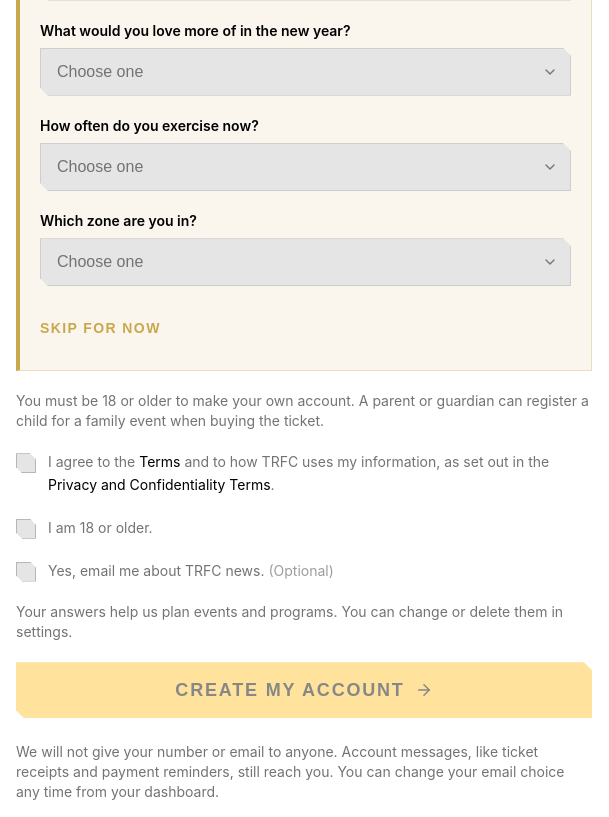
Test case: RegisterForm consent boxes › keeps the button off until Box 1 and the age box are ticked, with Box 2 unticked
(page scrolled)
Expected: the text "I am 18 or older." is shown, [48,517,153,540]
Expected: the checkbox with id "reg-marketing" is not checked, [16,562,334,582]
Step 1. Click the checkbox with id "reg-terms" → (94, 462), box [16,451,592,497]
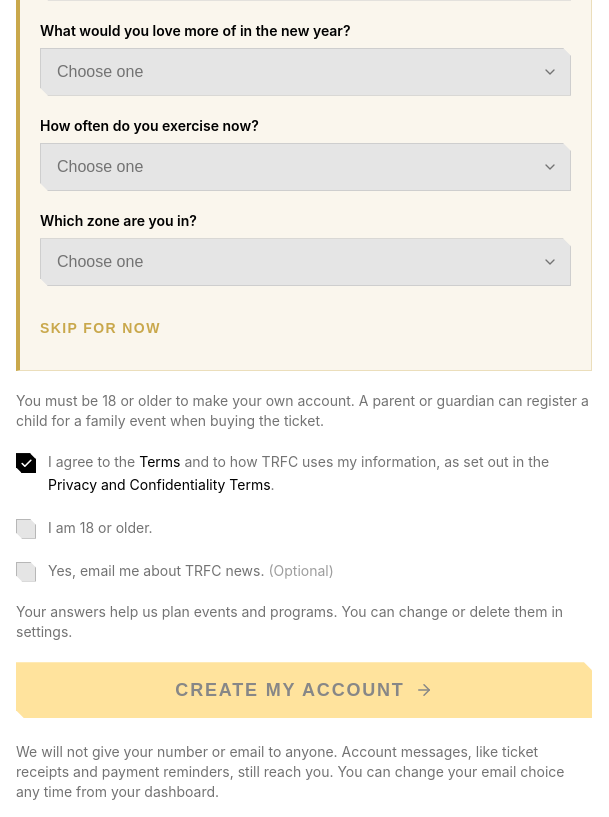
Expected: the button "Create my account" is disabled, [16,662,592,718]
Step 2. Click the checkbox with id "reg-age" → (84, 529), box [16,519,153,539]
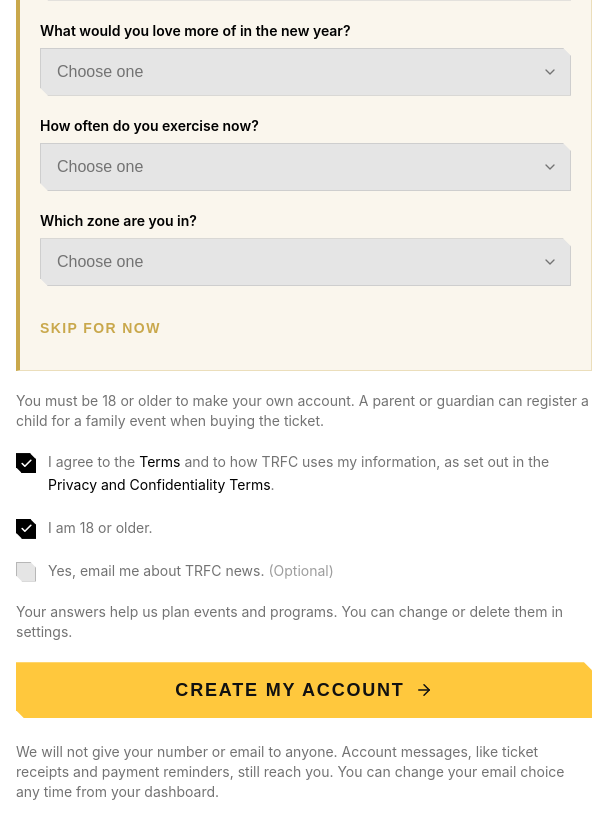
Result: the button "Create my account" is enabled at [16,662,592,718]
